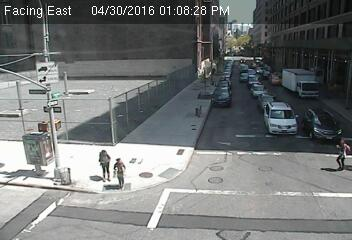neg: (7, 121, 36, 160), (98, 77, 124, 111), (34, 76, 55, 103), (52, 159, 73, 186), (204, 163, 224, 189), (138, 202, 158, 228), (165, 39, 184, 65), (284, 49, 302, 73), (227, 56, 245, 79), (266, 100, 280, 120), (175, 148, 189, 166), (192, 103, 203, 117)
pos: (109, 155, 130, 184), (90, 148, 111, 176), (331, 137, 351, 166)
